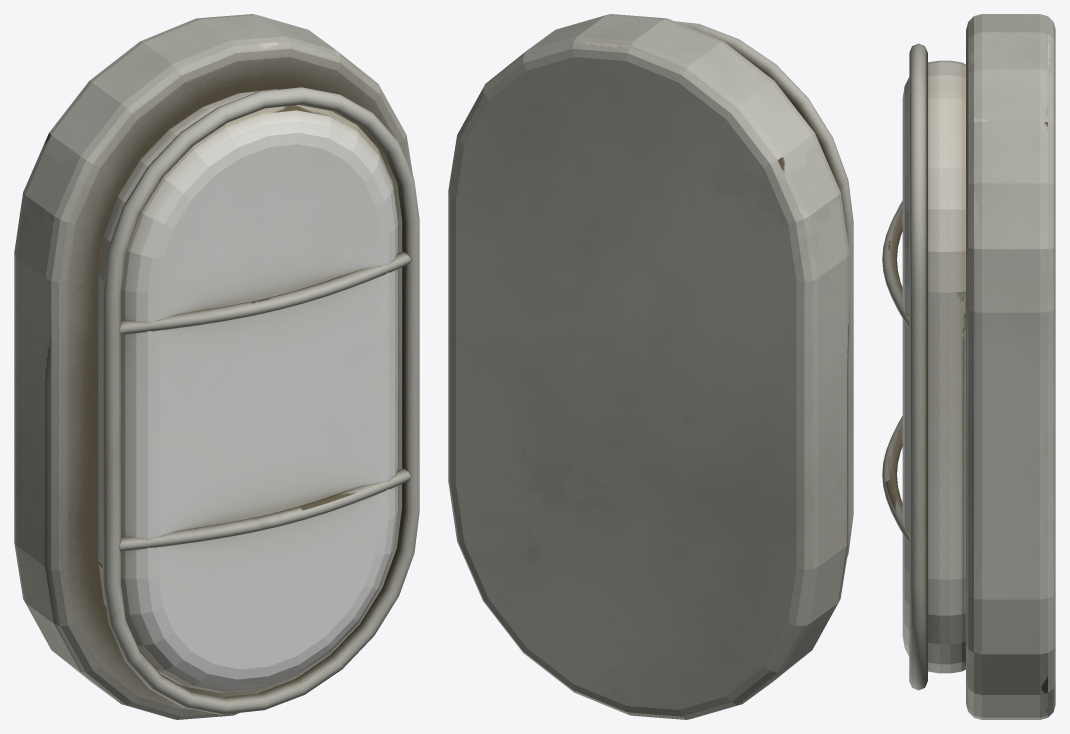
Rendered from WallLamp.fbx.
The picture shows the model from 3 angles, left to right: view 1: azimuth 30°, elevation 25°; view 2: azimuth 150°, elevation 25°; view 3: azimuth 270°, elevation 25°; orthographic projection.
Visible parts, largest first — view 1: WallLamp_Glass, WallLamp_Body; view 2: WallLamp_Body; view 3: WallLamp_Body, WallLamp_Glass.
Boxes of the visible parts, bbox=[...] form: WallLamp_Glass: bbox=[98, 89, 397, 693]; WallLamp_Body: bbox=[14, 14, 419, 719]; WallLamp_Body: bbox=[448, 14, 853, 719]; WallLamp_Body: bbox=[882, 14, 1055, 719]; WallLamp_Glass: bbox=[902, 60, 965, 673].
Size of the model in its own units: 0.16 by 0.28 by 0.0658.
